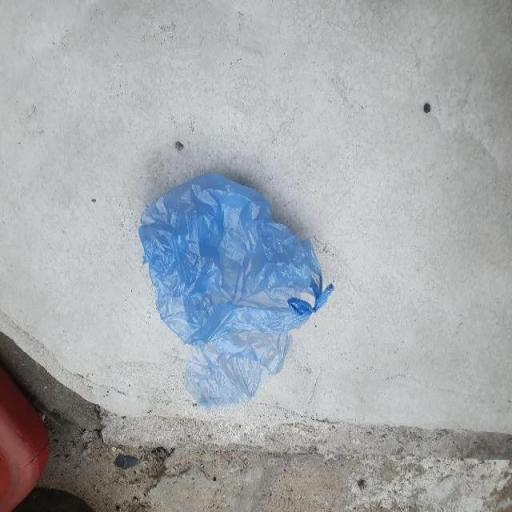plastic-bag: (138, 173, 336, 413)
